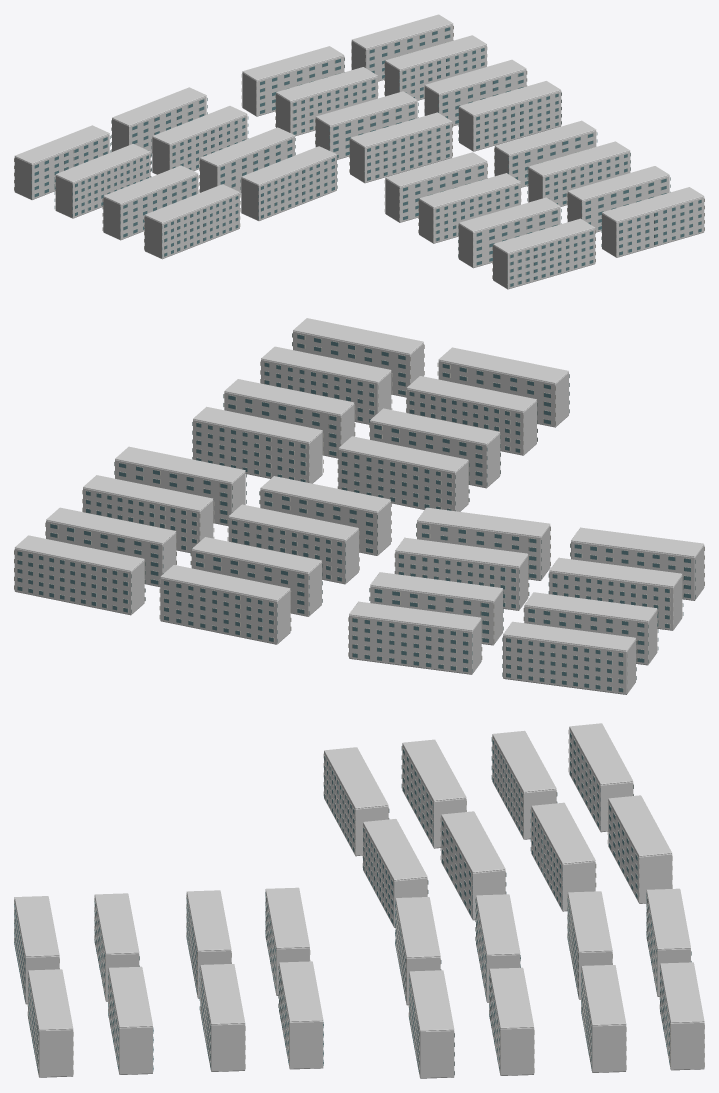
File: SEU_building_patch_v21.glb
3 renders of one model, top to bottom at view 1: azimuth 30°, elevation 25°; view 2: azimuth 150°, elevation 25°; view 3: azimuth 270°, elevation 25°, orthographic. The views are drawn at different scales.
Visible parts, largest first — view 1: SEU_B_OSMWAY_630136473__0004, SEU_B_OSMWAY_630136457__0004, SEU_B_OSMWAY_630136458__0004, SEU_B_OSMWAY_630136474__0004, SEU_B_OSMWAY_630136491__0004, SEU_B_OSMWAY_630136490__0004, SEU_B_OSMWAY_630136481__0004, SEU_B_OSMWAY_630136447__0004, SEU_B_OSMWAY_630136465__0004, SEU_B_OSMWAY_630136480__0004, SEU_B_OSMWAY_630136446__0004, SEU_B_OSMWAY_630136464__0004 (+62 smaller); view 2: SEU_B_OSMWAY_630136478__0004, SEU_B_OSMWAY_630136476__0004, SEU_B_OSMWAY_630136460__0004, SEU_B_OSMWAY_630136462__0004, SEU_B_OSMWAY_630136443__0004, SEU_B_OSMWAY_630136438__0004, SEU_B_OSMWAY_630136471__0004, SEU_B_OSMWAY_630136455__0004, SEU_B_OSMWAY_630136454__0004, SEU_B_OSMWAY_630136470__0004, SEU_B_OSMWAY_630136488__0004, SEU_B_OSMWAY_630136487__0004 (+69 smaller); view 3: SEU_B_OSMWAY_630136476__0004, SEU_B_OSMWAY_630136480__0004, SEU_B_OSMWAY_630136487__0004, SEU_B_OSMWAY_630136464__0004, SEU_B_OSMWAY_630136446__0004, SEU_B_OSMWAY_630136458__0004, SEU_B_OSMWAY_630136474__0004, SEU_B_OSMWAY_630136470__0004, SEU_B_OSMWAY_630136491__0003, SEU_B_OSMWAY_630136458__0003, SEU_B_OSMWAY_630136474__0003, SEU_B_OSMWAY_630136460__0004 (+40 smaller).
Part boxes in pixels (<box>): SEU_B_OSMWAY_630136473__0004: <box>350,122,452,183</box>; SEU_B_OSMWAY_630136457__0004: <box>493,228,595,289</box>; SEU_B_OSMWAY_630136458__0004: <box>602,197,704,257</box>; SEU_B_OSMWAY_630136474__0004: <box>459,90,561,151</box>; SEU_B_OSMWAY_630136491__0004: <box>241,155,336,220</box>; SEU_B_OSMWAY_630136490__0004: <box>144,193,239,259</box>; SEU_B_OSMWAY_630136481__0004: <box>55,152,150,218</box>; SEU_B_OSMWAY_630136447__0004: <box>419,182,520,243</box>; SEU_B_OSMWAY_630136465__0004: <box>276,76,377,136</box>; SEU_B_OSMWAY_630136480__0004: <box>152,114,247,174</box>; SEU_B_OSMWAY_630136446__0004: <box>528,151,630,206</box>; SEU_B_OSMWAY_630136464__0004: <box>385,45,486,100</box>; SEU_B_OSMWAY_630136478__0004: <box>503,635,635,694</box>; SEU_B_OSMWAY_630136476__0004: <box>349,615,481,674</box>; SEU_B_OSMWAY_630136460__0004: <box>14,548,144,615</box>; SEU_B_OSMWAY_630136462__0004: <box>160,577,290,644</box>; SEU_B_OSMWAY_630136443__0004: <box>338,449,468,511</box>; SEU_B_OSMWAY_630136438__0004: <box>193,419,322,483</box>; SEU_B_OSMWAY_630136471__0004: <box>228,517,358,584</box>; SEU_B_OSMWAY_630136455__0004: <box>406,388,536,455</box>; SEU_B_OSMWAY_630136454__0004: <box>261,359,391,424</box>; SEU_B_OSMWAY_630136470__0004: <box>83,488,213,553</box>; SEU_B_OSMWAY_630136488__0004: <box>549,571,682,630</box>; SEU_B_OSMWAY_630136487__0004: <box>395,551,528,610</box>; SEU_B_OSMWAY_630136476__0004: <box>608,800,672,903</box>; SEU_B_OSMWAY_630136480__0004: <box>531,807,595,911</box>; SEU_B_OSMWAY_630136487__0004: <box>441,816,505,920</box>; SEU_B_OSMWAY_630136464__0004: <box>581,968,626,1072</box>; SEU_B_OSMWAY_630136446__0004: <box>200,967,245,1071</box>; SEU_B_OSMWAY_630136458__0004: <box>28,972,73,1077</box>; SEU_B_OSMWAY_630136474__0004: <box>409,973,454,1078</box>; SEU_B_OSMWAY_630136470__0004: <box>489,970,534,1075</box>; SEU_B_OSMWAY_630136491__0003: <box>363,819,427,880</box>; SEU_B_OSMWAY_630136458__0003: <box>28,969,73,1030</box>; SEU_B_OSMWAY_630136474__0003: <box>409,970,454,1031</box>; SEU_B_OSMWAY_630136460__0004: <box>660,965,704,1070</box>.
Bounding box in the file's own units: 273 × 20 × 259.
